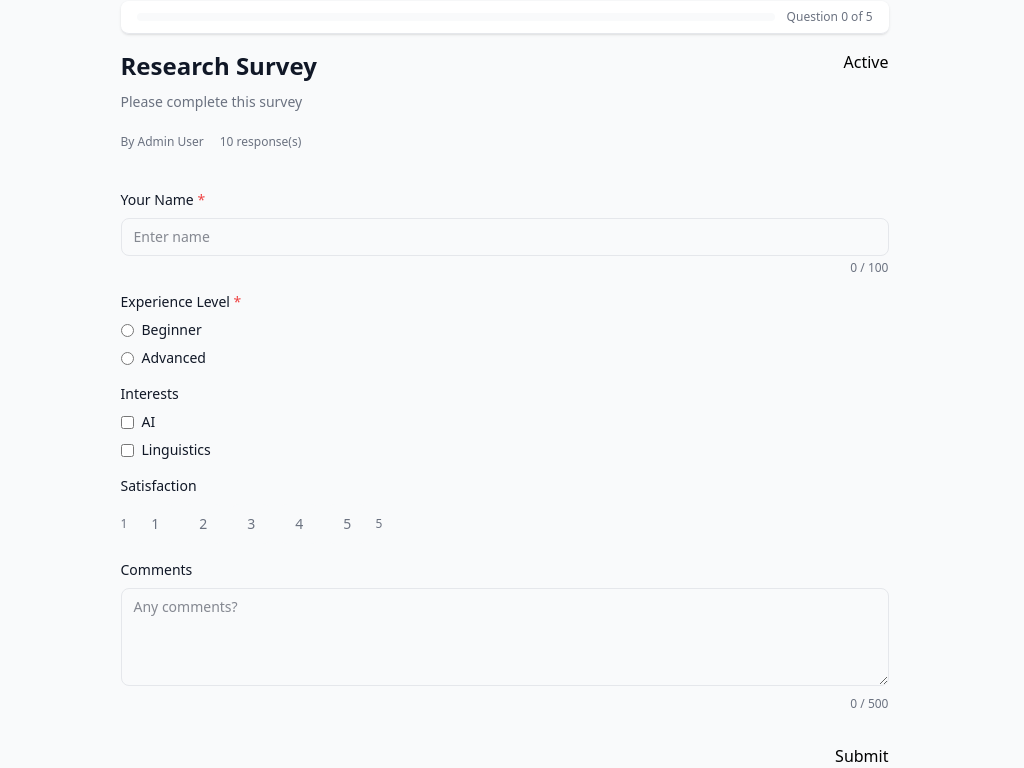
Test case: FormView › shows success message after submission
(page scrolled)
Click the button "Submit".
click(862, 756)  # box [835,744,888,767]
(page scrolled)
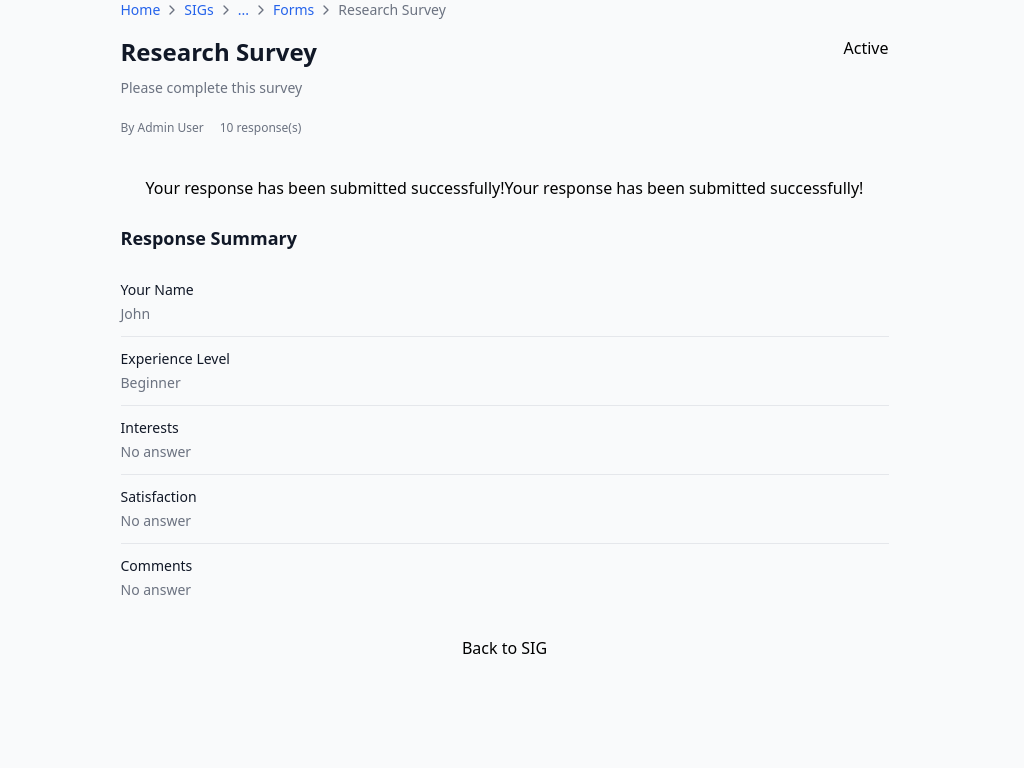
Now the text "submitted successfully" is shown, box [146,177,504,199]
